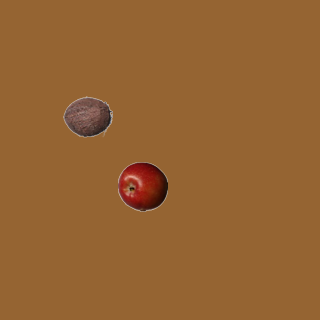Apple Braeburn: (117, 161, 167, 211)
Cocos: (62, 91, 112, 141)
